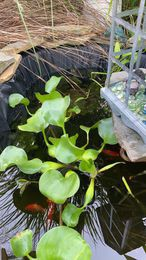water_hyacinth: (1, 77, 115, 260)
